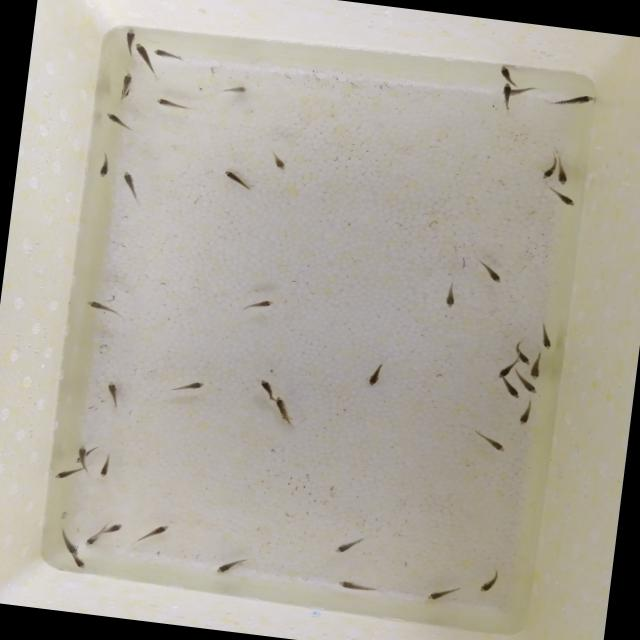fingerling: (117, 168, 147, 207), (329, 530, 370, 558), (82, 294, 126, 320), (208, 553, 250, 578), (468, 428, 508, 454), (552, 90, 596, 113), (220, 168, 256, 195), (332, 575, 378, 595), (136, 520, 174, 544), (474, 256, 506, 284), (264, 147, 292, 177), (438, 278, 462, 312), (100, 108, 134, 132), (150, 92, 190, 112), (239, 295, 277, 316), (273, 394, 296, 428), (422, 584, 460, 604), (168, 376, 208, 395), (362, 361, 388, 390), (115, 68, 137, 102), (100, 378, 124, 407), (533, 324, 557, 352), (478, 569, 502, 597), (95, 150, 116, 182), (54, 530, 80, 554), (148, 47, 186, 63), (549, 188, 579, 208), (254, 376, 278, 400), (220, 80, 252, 97), (52, 464, 80, 483), (98, 518, 127, 536), (498, 84, 514, 116), (554, 160, 572, 187), (96, 453, 114, 480), (122, 28, 139, 56), (516, 402, 534, 428), (526, 356, 546, 379), (73, 442, 91, 466), (134, 42, 150, 68), (496, 64, 516, 84), (520, 378, 542, 396), (500, 383, 521, 401), (540, 159, 556, 182), (492, 364, 514, 380), (82, 533, 104, 548), (70, 554, 90, 570), (514, 347, 529, 365)
